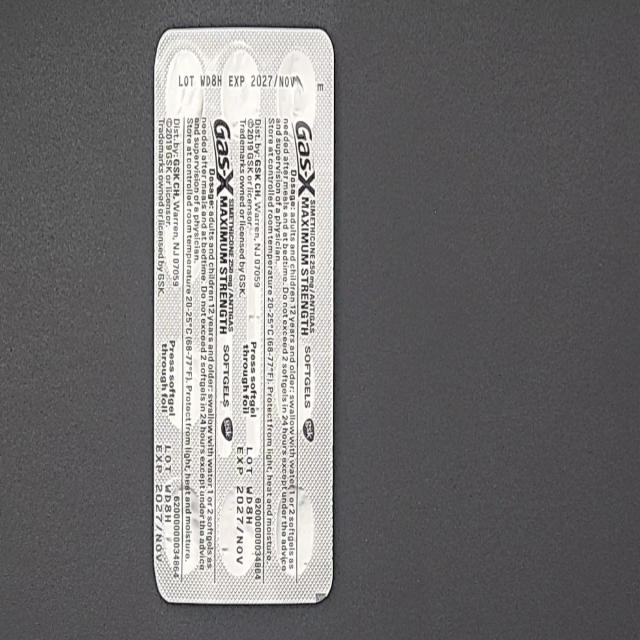no defect: (9, 16, 34, 68)
